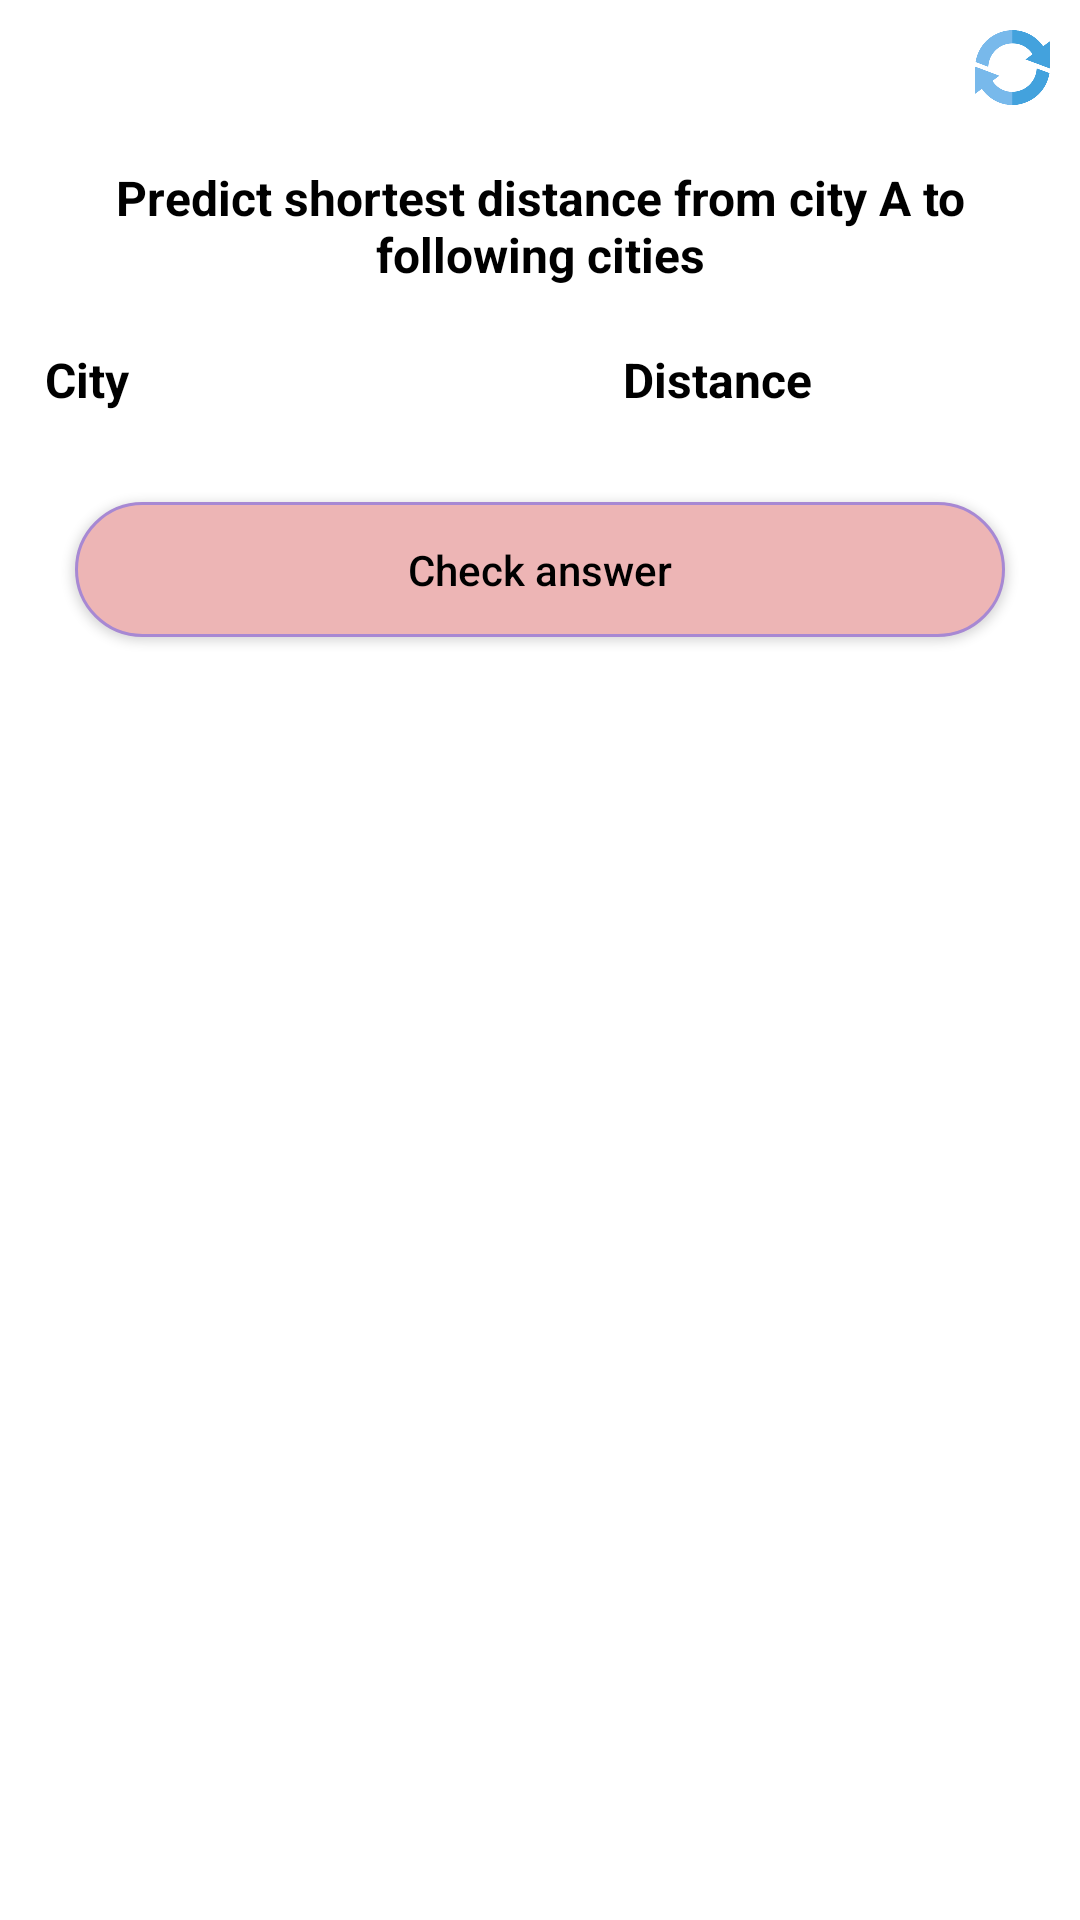

Locate icon controls on the screen. Image size 1080×1920, boxes as (x1,y1,x2,y2).
refresh: (975,30,1050,105)
